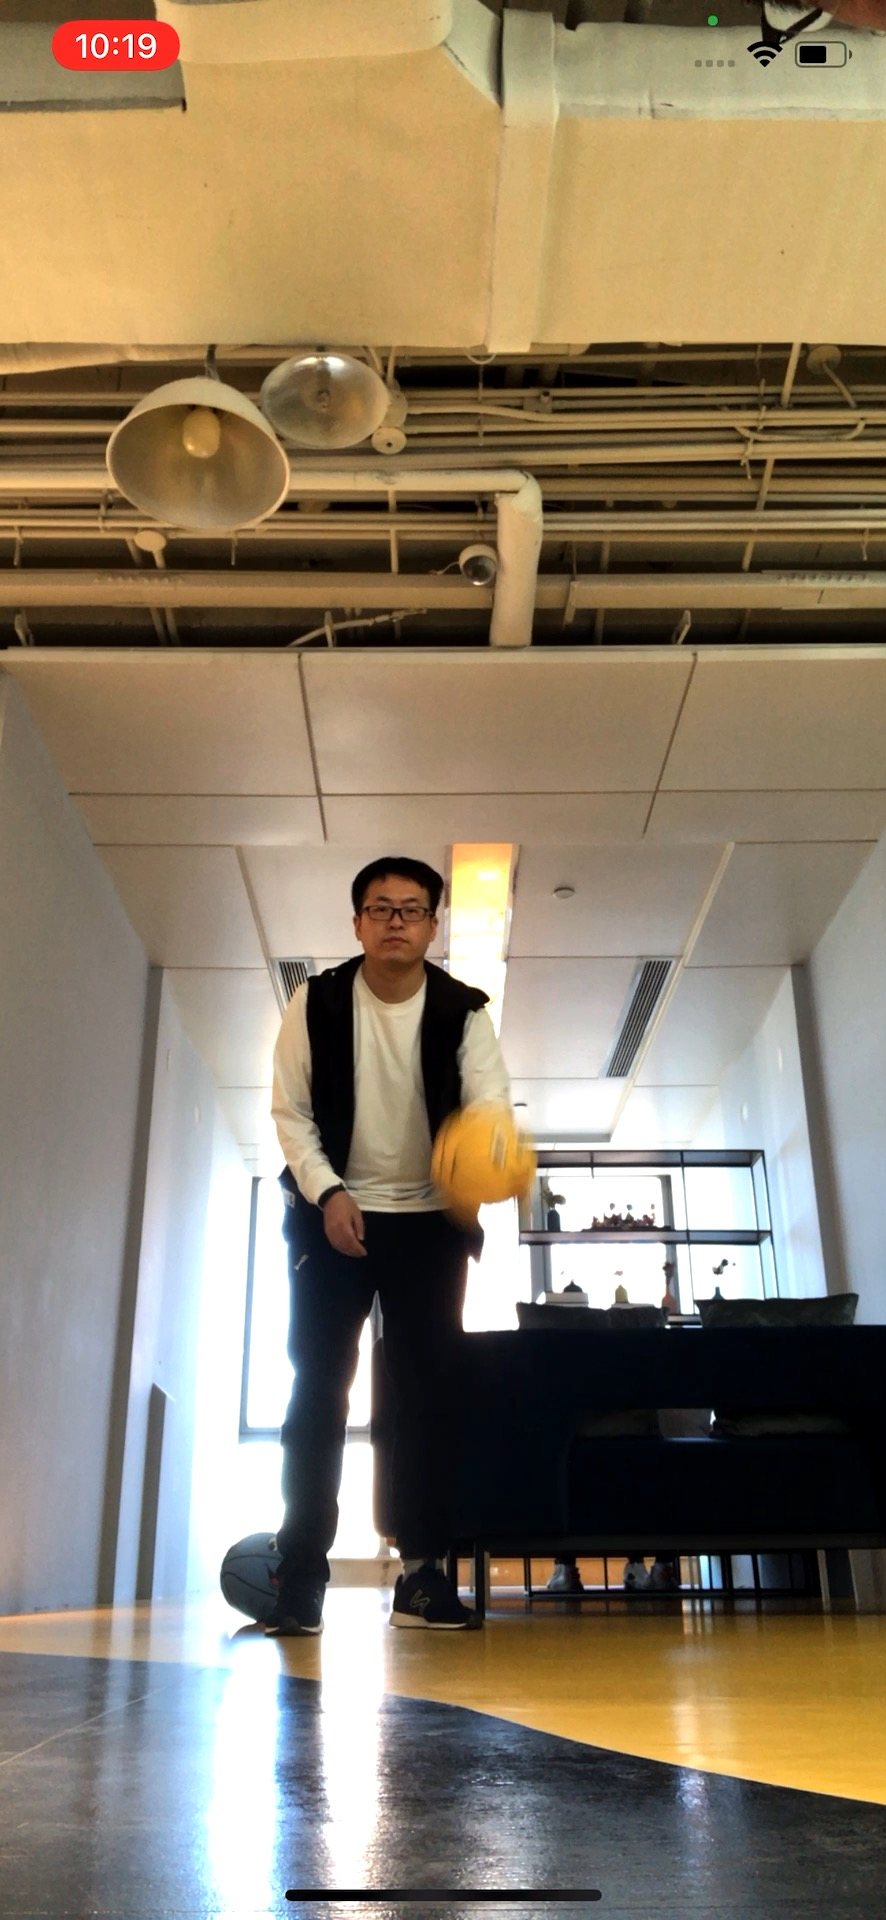ball: (433, 1104, 538, 1223), (223, 1536, 284, 1627)
